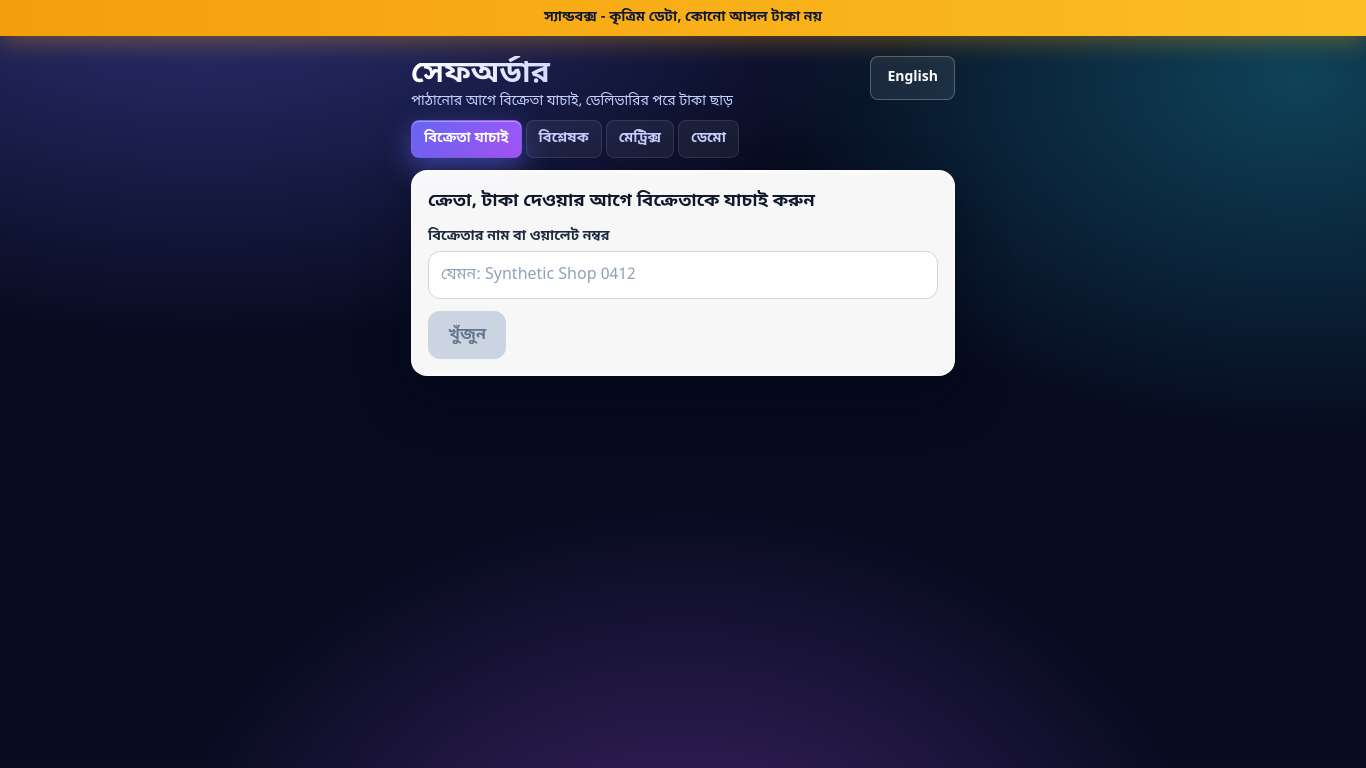
Test: layout › is Bangla by default and switches to English and back
The width and height of the screenshot is (1366, 768).
Expected: the heading "ক্রেতা, টাকা দেওয়ার আগে বিক্রেতাকে যাচাই করুন" is shown, x1=428 y1=189 x2=815 y2=213
Step 1. Click the button "English" → click(913, 78), box x1=870 y1=56 x2=955 y2=100
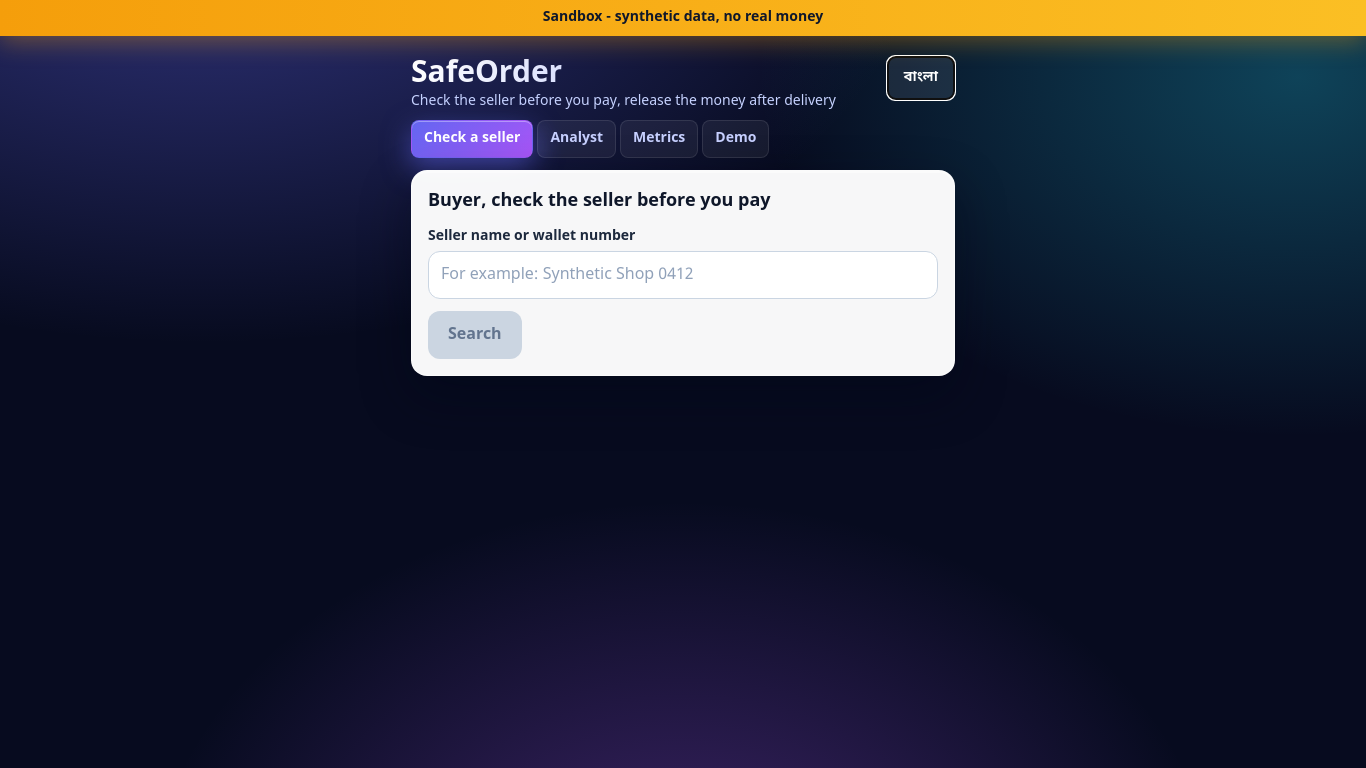
Expected: the heading "Buyer, check the seller before you pay" is shown, x1=428 y1=189 x2=771 y2=213
Expected: the message with test id "sandbox-banner" reads "Sandbox - synthetic data, no real money", x1=543 y1=8 x2=823 y2=27
Step 2. Click the button "বাংলা" → click(921, 78), box x1=887 y1=56 x2=955 y2=100
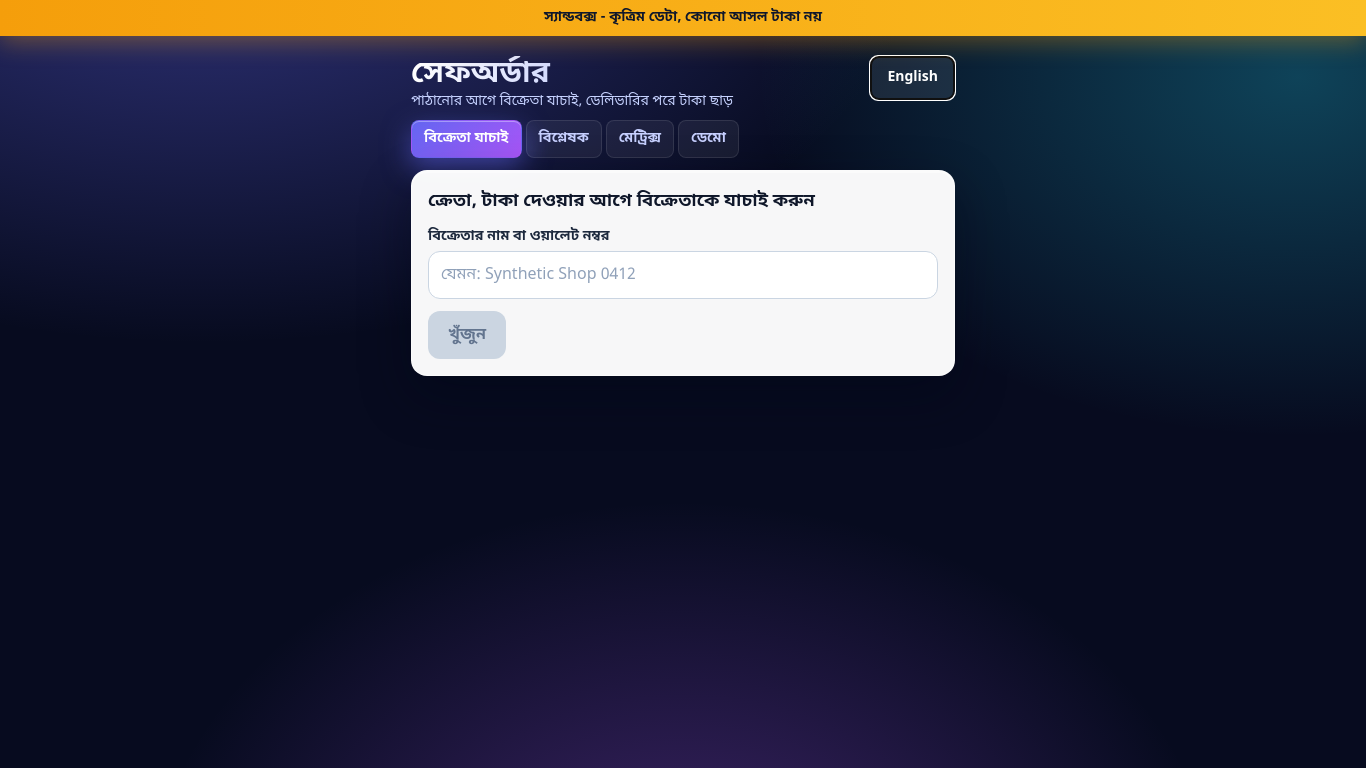
Expected: the heading "ক্রেতা, টাকা দেওয়ার আগে বিক্রেতাকে যাচাই করুন" is shown, x1=428 y1=189 x2=815 y2=213
